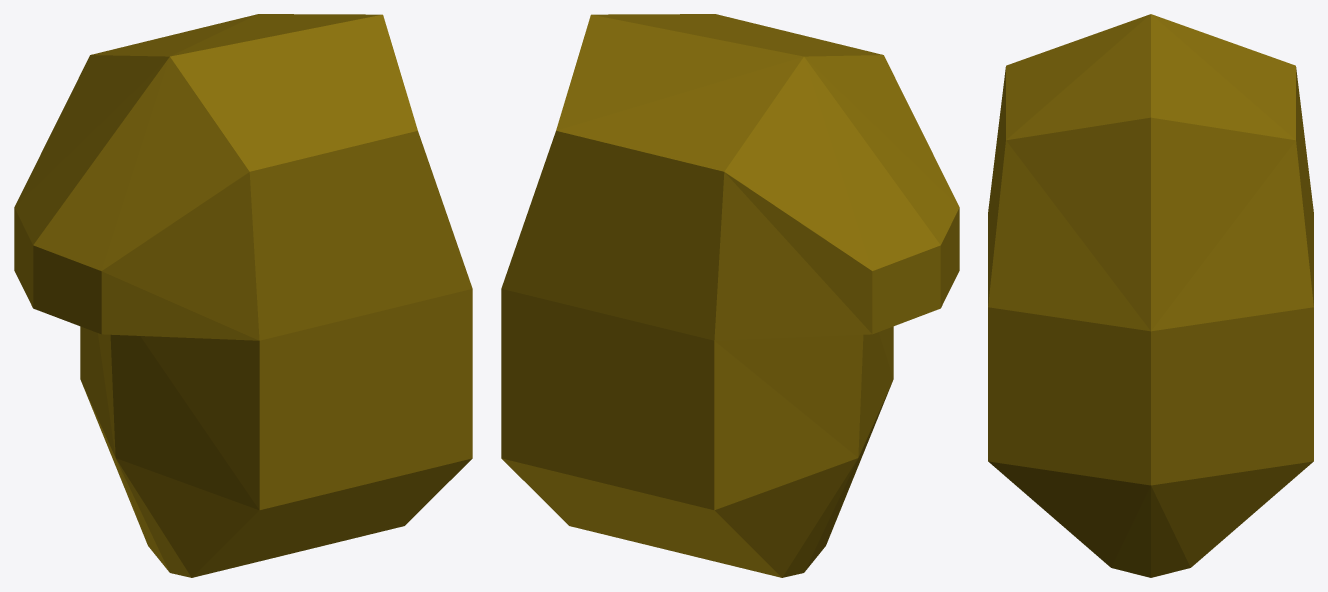
File: Frog_01.obj
3 renders of one model, left to right at view 1: azimuth 30°, elevation 25°; view 2: azimuth 150°, elevation 25°; view 3: azimuth 270°, elevation 25°, orthographic. The views are drawn at different scales.
Visible parts, largest first — view 1: Box001; view 2: Box001; view 3: Box001.
Part boxes in pixels (x1=…): Box001: x1=14, y1=14, x2=472, y2=577; Box001: x1=501, y1=14, x2=959, y2=577; Box001: x1=988, y1=14, x2=1313, y2=577.
Bounding box in the file's own units: 57.73 × 70.48 × 44.34.
